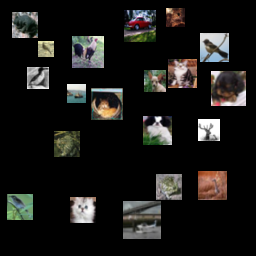airplane: (123, 201, 161, 239)
automobile: (124, 10, 156, 42)
bird: (72, 36, 104, 68), (198, 171, 227, 200), (200, 33, 229, 62), (7, 194, 33, 220), (27, 67, 49, 89), (38, 41, 54, 57)
cat: (91, 88, 123, 120), (168, 59, 197, 88), (70, 197, 96, 223), (166, 8, 185, 27)
deer: (198, 119, 220, 141)
dog: (211, 71, 246, 106), (143, 116, 172, 145), (144, 70, 166, 92)
frog: (54, 131, 80, 157), (156, 174, 182, 200), (12, 12, 38, 38)
ship: (67, 84, 86, 103)
